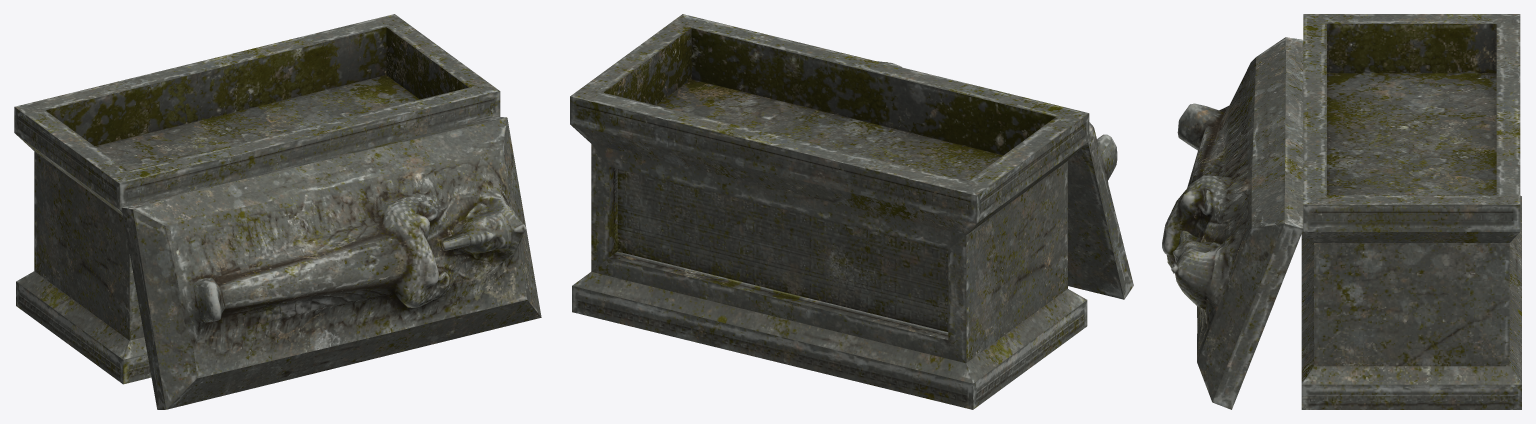
The model's file is SM_Prop_Stone_Grave3.fbx.
The picture shows the model from 3 angles, left to right: view 1: azimuth 30°, elevation 25°; view 2: azimuth 150°, elevation 25°; view 3: azimuth 270°, elevation 25°; orthographic projection. The views are drawn at different scales.
Parts seen in each view (by area): view 1: SM_Prop_Stone_Grave3_LOD0; view 2: SM_Prop_Stone_Grave3_LOD0; view 3: SM_Prop_Stone_Grave3_LOD0.
Boxes of the visible parts, bbox=[...] form: SM_Prop_Stone_Grave3_LOD0: bbox=[14, 14, 541, 409]; SM_Prop_Stone_Grave3_LOD0: bbox=[570, 14, 1133, 409]; SM_Prop_Stone_Grave3_LOD0: bbox=[1162, 14, 1521, 409].
Bounding box in the file's own units: 238 × 190 × 120.
1 material, 1 textured.
